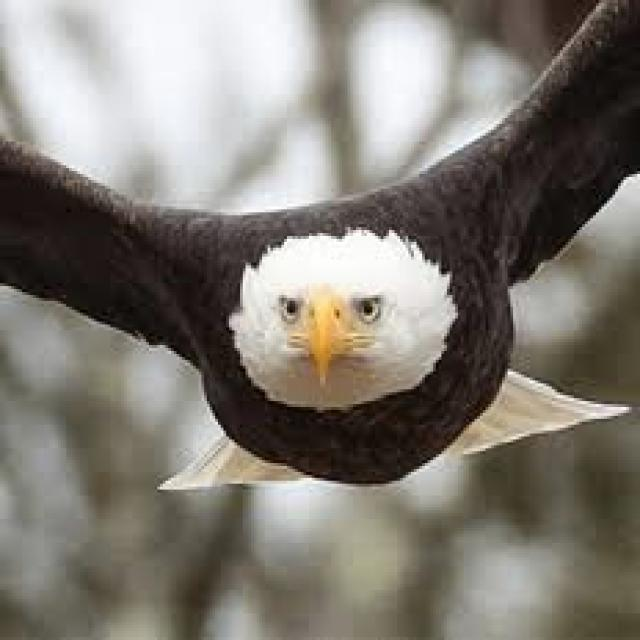eagle: (3, 0, 640, 487)
